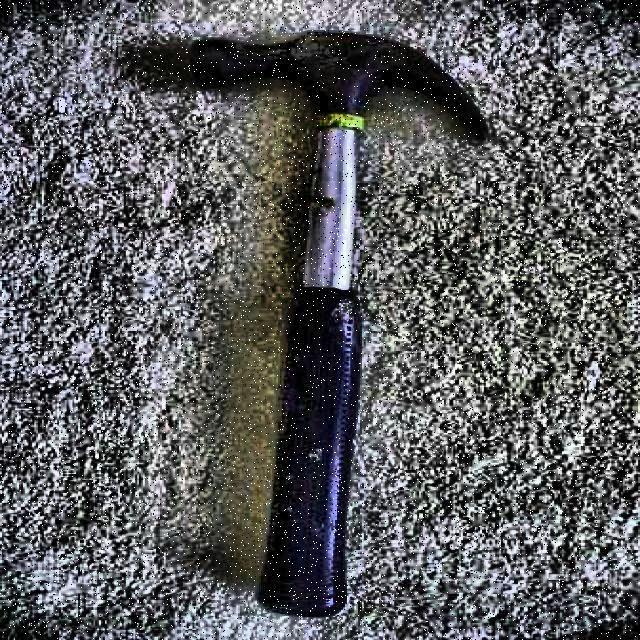hammer: (190, 29, 492, 620)
